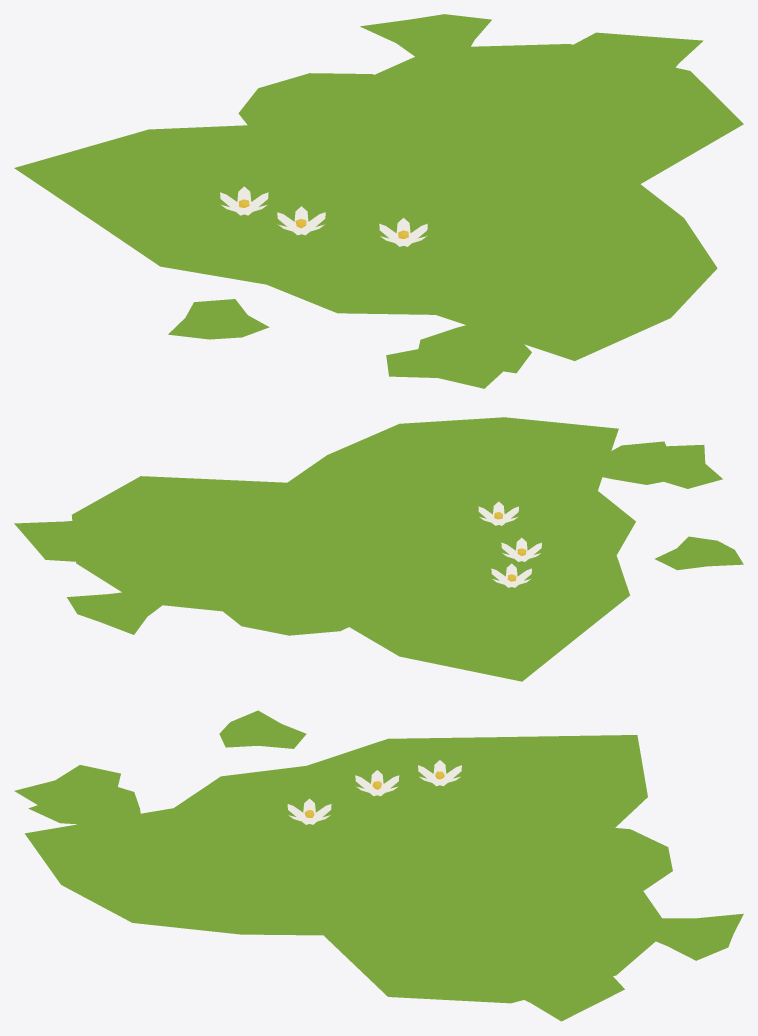
The model's file is Blender_Duckweed_1.glb.
3 views of the same model, one above another, from view 1: azimuth 30°, elevation 25°; view 2: azimuth 150°, elevation 25°; view 3: azimuth 270°, elevation 25° (orthographic). The views are drawn at different scales.
Parts seen in each view (by area): view 1: Blender_Duckweed_1; view 2: Blender_Duckweed_1; view 3: Blender_Duckweed_1.
Part boxes in pixels (bbox=[...]): Blender_Duckweed_1: bbox=[14, 14, 743, 388]; Blender_Duckweed_1: bbox=[14, 417, 743, 681]; Blender_Duckweed_1: bbox=[14, 710, 743, 1021].
Bounding box in the file's own units: 4.06 × 0.11 × 4.02.
